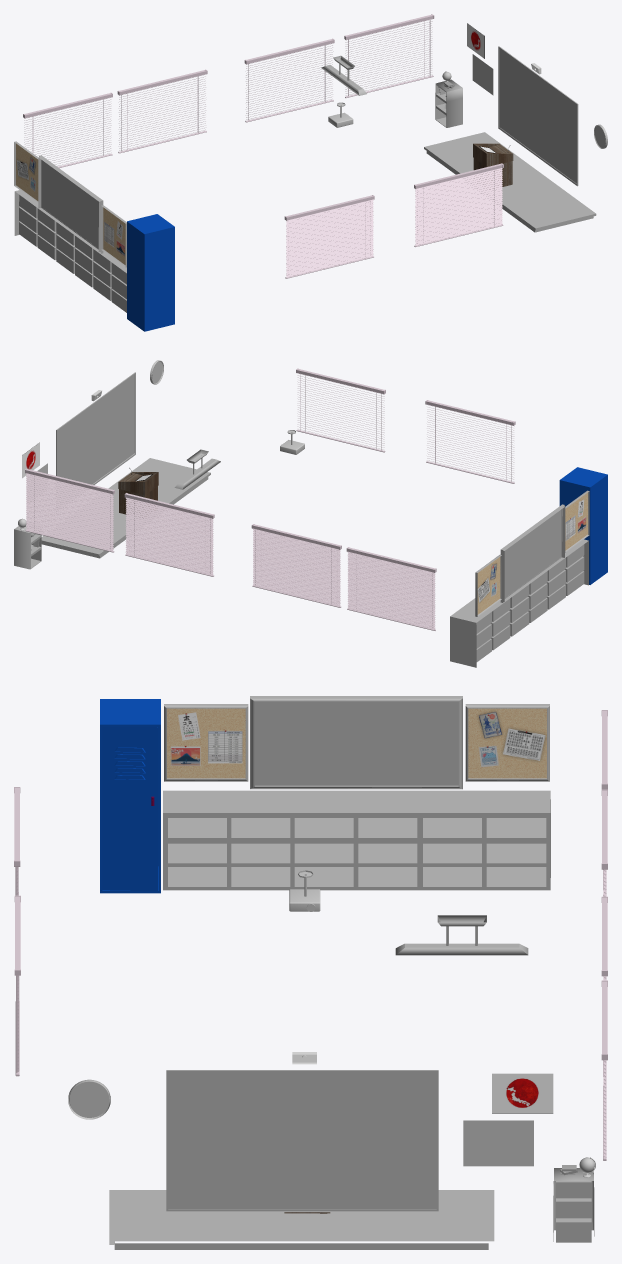
Rendered from Decore.fbx.
3 views of the same model, one above another, from view 1: azimuth 30°, elevation 25°; view 2: azimuth 150°, elevation 25°; view 3: azimuth 270°, elevation 25° (orthographic). The views are drawn at different scales.
Visible parts, largest first — view 1: VERDE_GRANDE, Blinds6, Blinds4, LockerDoor1, BASE_MADERA, Cuboard01, TRAS_VERDE, Blinds2, Blinds1, Blinds5, Blinds3, Cuboard (+6 smaller); view 2: Cuboard01, Blinds5, Blinds3, VERDE_GRANDE, Blinds2, Blinds1, TRAS_VERDE, Blinds6, Blinds4, LockerDoor1, BASE_MADERA, Podium (+5 smaller); view 3: Cuboard01, VERDE_GRANDE, TRAS_VERDE, BASE_MADERA, LockerDoor1, TRAS_CORCHO3, TRAS_CORCHO4, TRAS_CORCHO5, TRAS_GRANDE, Cuboard, BASE_METAL, TRAS_CORCHO6 (+8 smaller).
Part boxes in pixels (box(x1,y1,x2,y2)): VERDE_GRANDE: box(499, 49, 576, 183); Blinds6: box(414, 163, 503, 246); Blinds4: box(284, 195, 374, 278); LockerDoor1: box(127, 214, 174, 331); BASE_MADERA: box(424, 132, 596, 230); Cuboard01: box(14, 190, 126, 312); TRAS_VERDE: box(38, 157, 100, 252); Blinds2: box(117, 69, 207, 153); Blinds1: box(244, 38, 334, 122); Blinds5: box(344, 14, 434, 97); Blinds3: box(23, 92, 112, 167); Cuboard: box(435, 79, 462, 127); Cuboard01: box(450, 539, 588, 667); Blinds5: box(25, 468, 114, 552); Blinds3: box(346, 547, 436, 630); VERDE_GRANDE: box(57, 375, 134, 484); Blinds2: box(251, 524, 341, 607); Blinds1: box(124, 493, 214, 576); TRAS_VERDE: box(503, 506, 565, 601); Blinds6: box(296, 368, 385, 452); Blinds4: box(425, 400, 515, 483); LockerDoor1: box(559, 467, 607, 584); BASE_MADERA: box(41, 458, 210, 556); Podium: box(118, 468, 158, 514); Cuboard01: box(163, 790, 550, 890); VERDE_GRANDE: box(167, 1072, 437, 1209); TRAS_VERDE: box(255, 701, 458, 785); BASE_MADERA: box(109, 1190, 494, 1244); LockerDoor1: box(100, 699, 160, 893); TRAS_CORCHO3: box(468, 708, 546, 778); TRAS_CORCHO4: box(167, 708, 245, 778); TRAS_CORCHO5: box(463, 1120, 533, 1166); TRAS_GRANDE: box(250, 696, 462, 789); Cuboard: box(553, 1168, 594, 1242); BASE_METAL: box(114, 1243, 488, 1249); TRAS_CORCHO6: box(492, 1073, 553, 1113).
Bounding box in the file's own units: 15.51 × 3.95 × 10.14.
